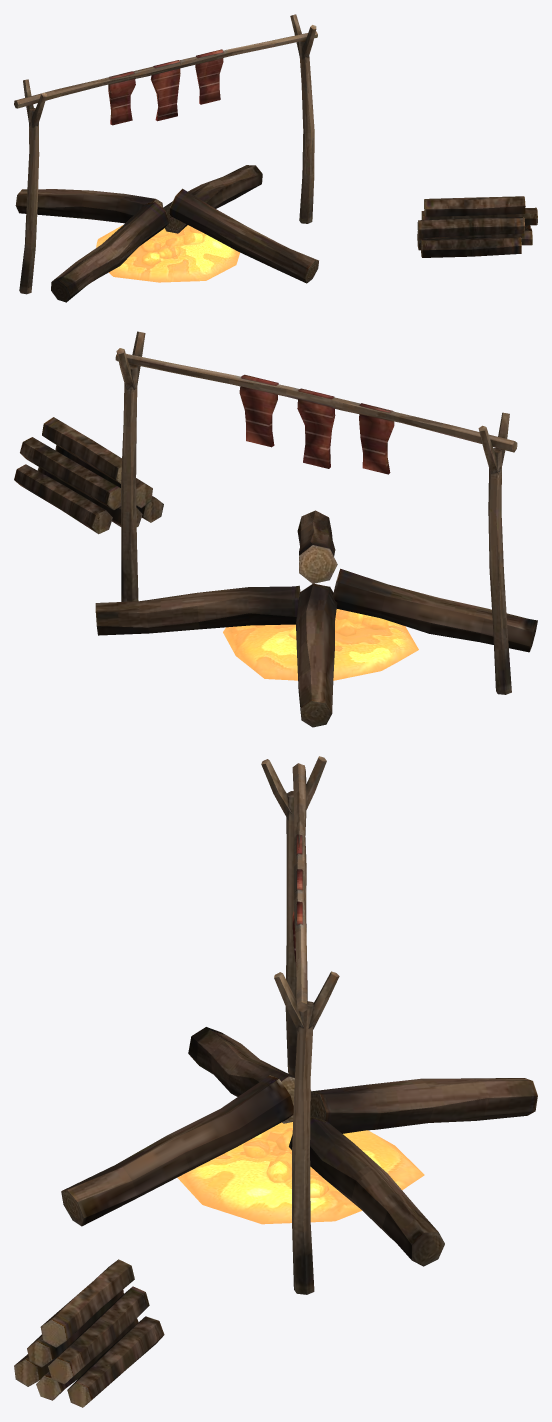
The model's file is hearth_fire.gltf.
3 views of the same model, one above another, from view 1: azimuth 30°, elevation 25°; view 2: azimuth 150°, elevation 25°; view 3: azimuth 270°, elevation 25° (orthographic). The views are drawn at different scales.
Parts seen in each view (by area): view 1: hearth_fire; view 2: hearth_fire; view 3: hearth_fire.
Part boxes in pixels (box(x1,y1,x2,y2)): hearth_fire: box(14, 14, 537, 302); hearth_fire: box(14, 331, 537, 727); hearth_fire: box(14, 756, 537, 1407).
Bounding box in the file's own units: 2.38 × 1.04 × 1.53.
Materials: 5 (5 with a texture image).
